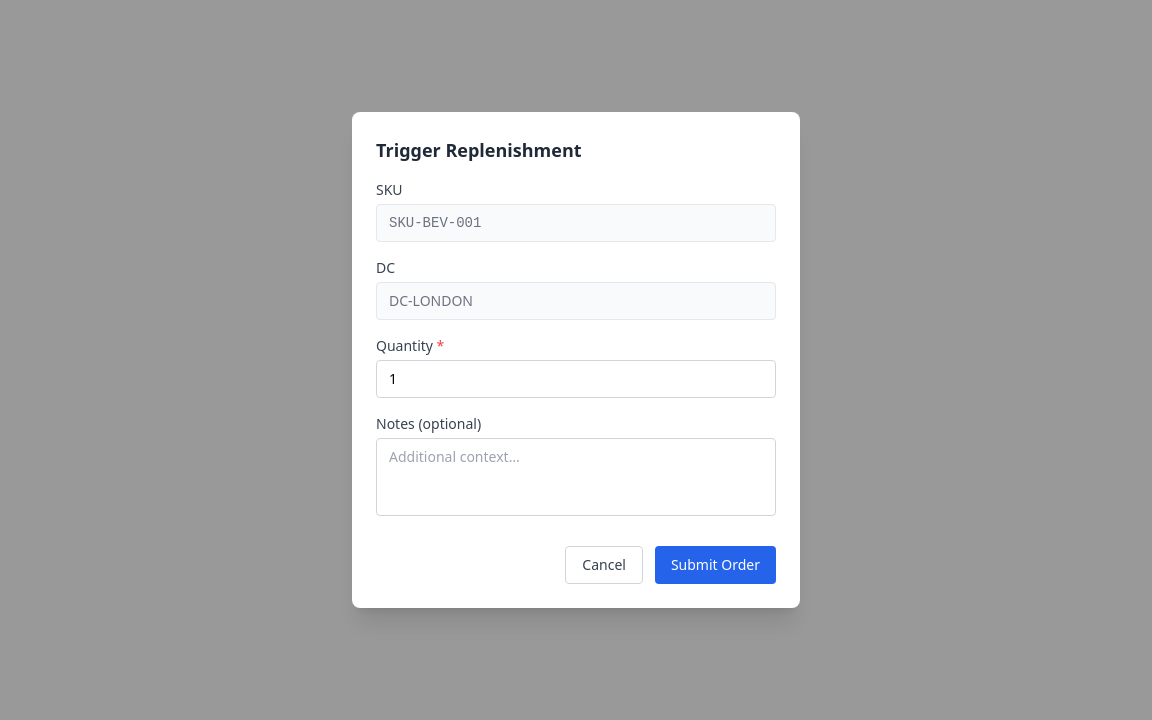
Test: ReplenishmentTriggerModal › shows error when fetch throws
The image size is (1152, 720).
Click the button "Submit Order". click: (715, 565)
box: [655, 546, 776, 584]
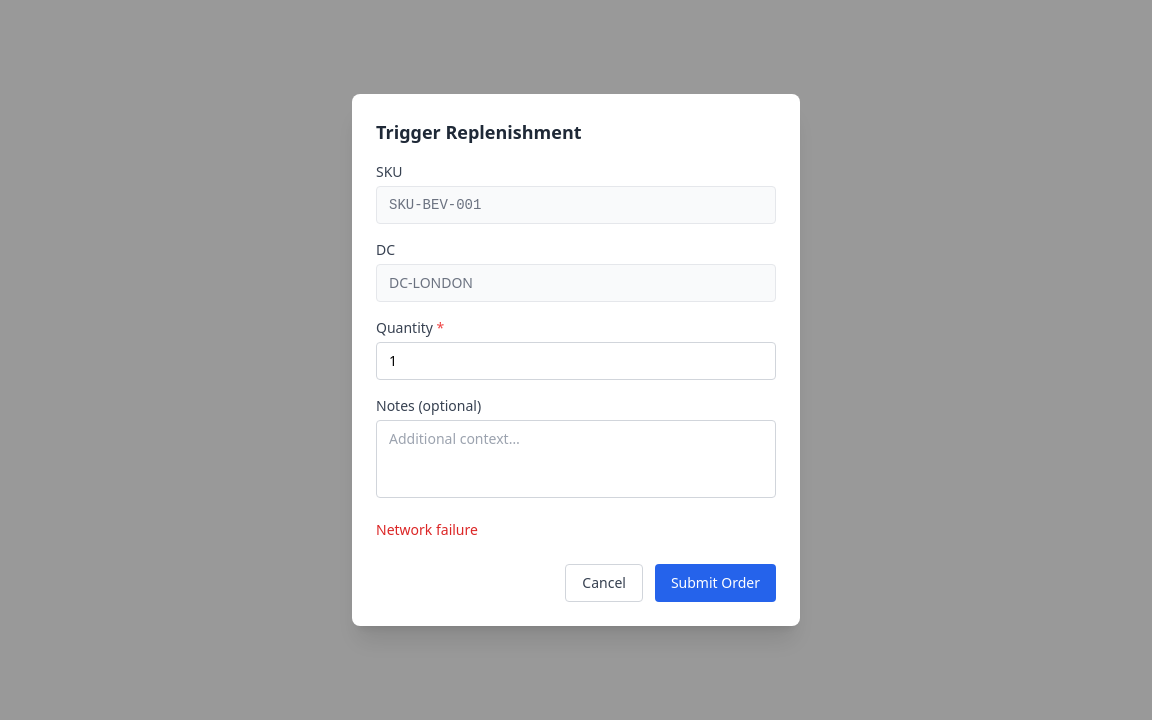
Check: the text "Network failure" is shown, box [376, 520, 478, 539]
